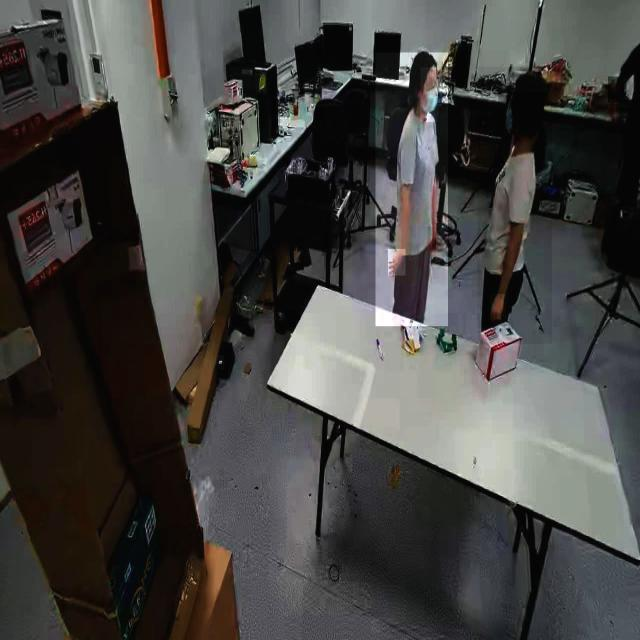face_mask: (498, 87, 530, 135), (420, 67, 438, 121)
hand_noglove: (388, 249, 406, 276), (489, 294, 506, 322), (608, 77, 626, 103), (427, 226, 439, 252)
head_nohelmet: (514, 71, 547, 93), (409, 50, 439, 71)
person: (477, 67, 552, 345), (375, 53, 448, 327)
